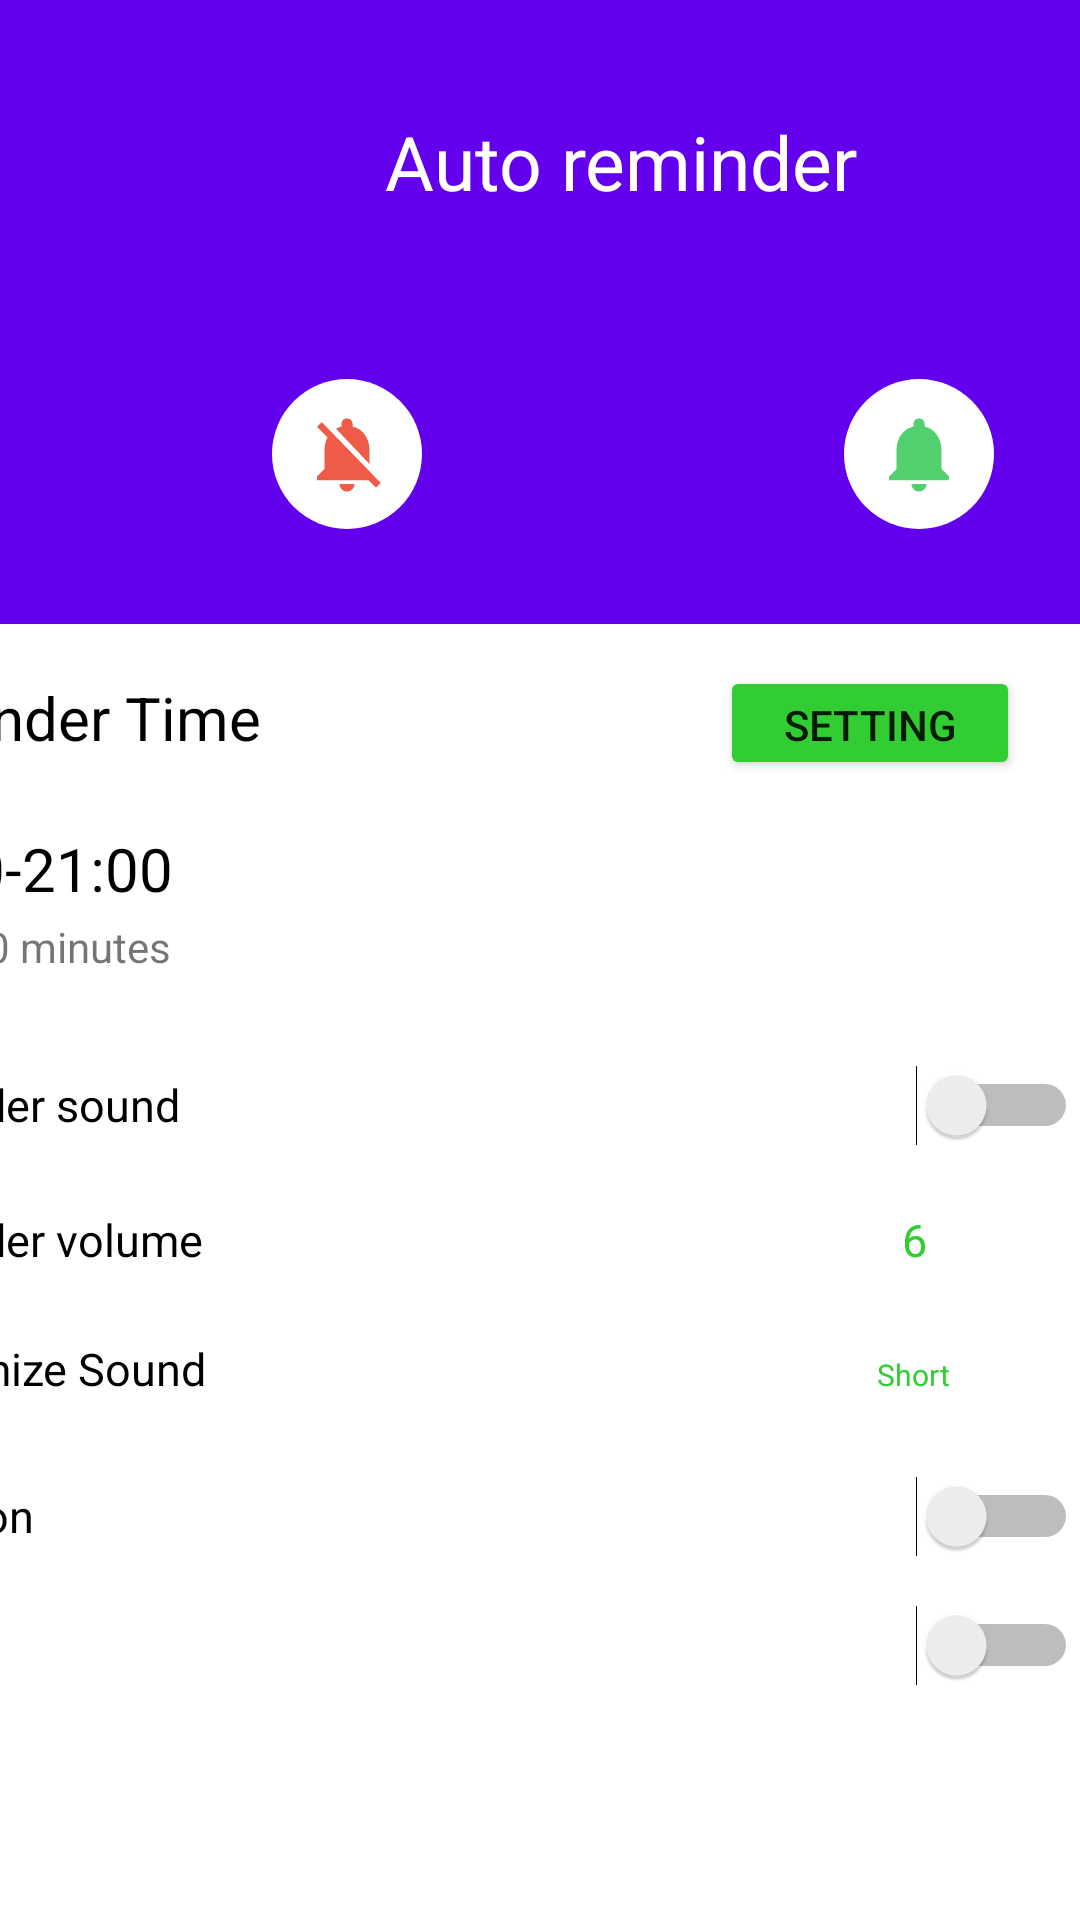

Where to tap for icons on this 1080 x 1920 app screen, as (x=x, y=y):
bell: (x=347, y=454), (x=919, y=454)
